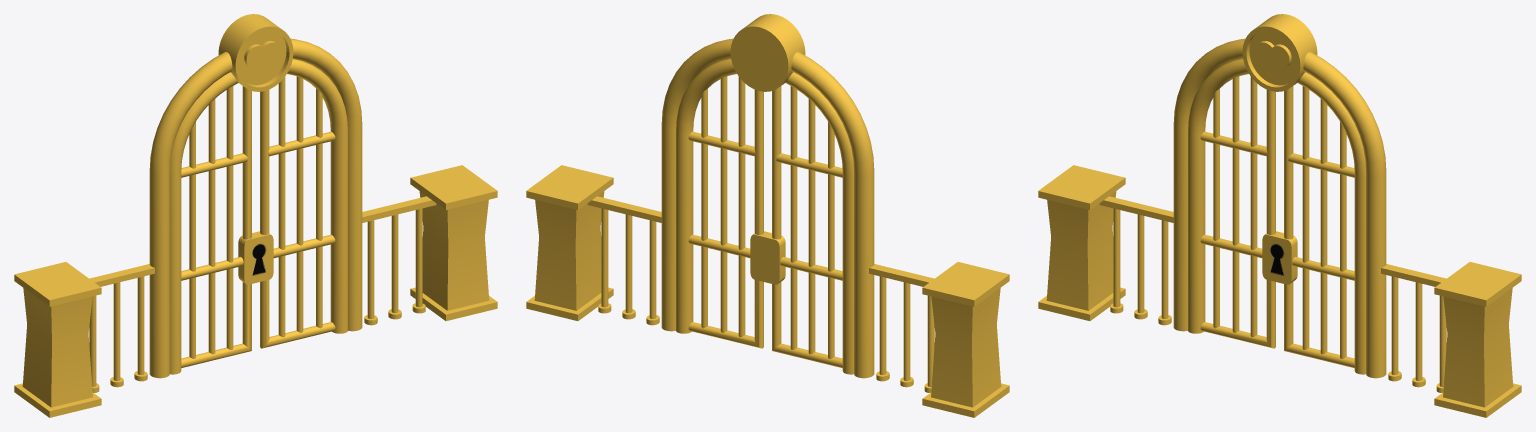
Rendered from door (2).fbx.
3 renders of one model, left to right at view 1: azimuth 30°, elevation 25°; view 2: azimuth 150°, elevation 25°; view 3: azimuth 330°, elevation 25°, orthographic.
Parts seen in each view (by area): view 1: Gate, gate.R, gate.L; view 2: Gate, gate.R, gate.L; view 3: Gate, gate.R, gate.L.
Boxes of the visible parts, bbox=[...] form: Gate: bbox=[14, 14, 497, 417]; gate.R: bbox=[238, 59, 347, 348]; gate.L: bbox=[170, 72, 251, 374]; Gate: bbox=[526, 14, 1009, 417]; gate.R: bbox=[676, 59, 785, 348]; gate.L: bbox=[772, 72, 853, 374]; Gate: bbox=[1038, 14, 1521, 417]; gate.R: bbox=[1262, 72, 1365, 374]; gate.L: bbox=[1188, 59, 1275, 348].
Size of the model in its own units: 1830 by 1285 by 250.
